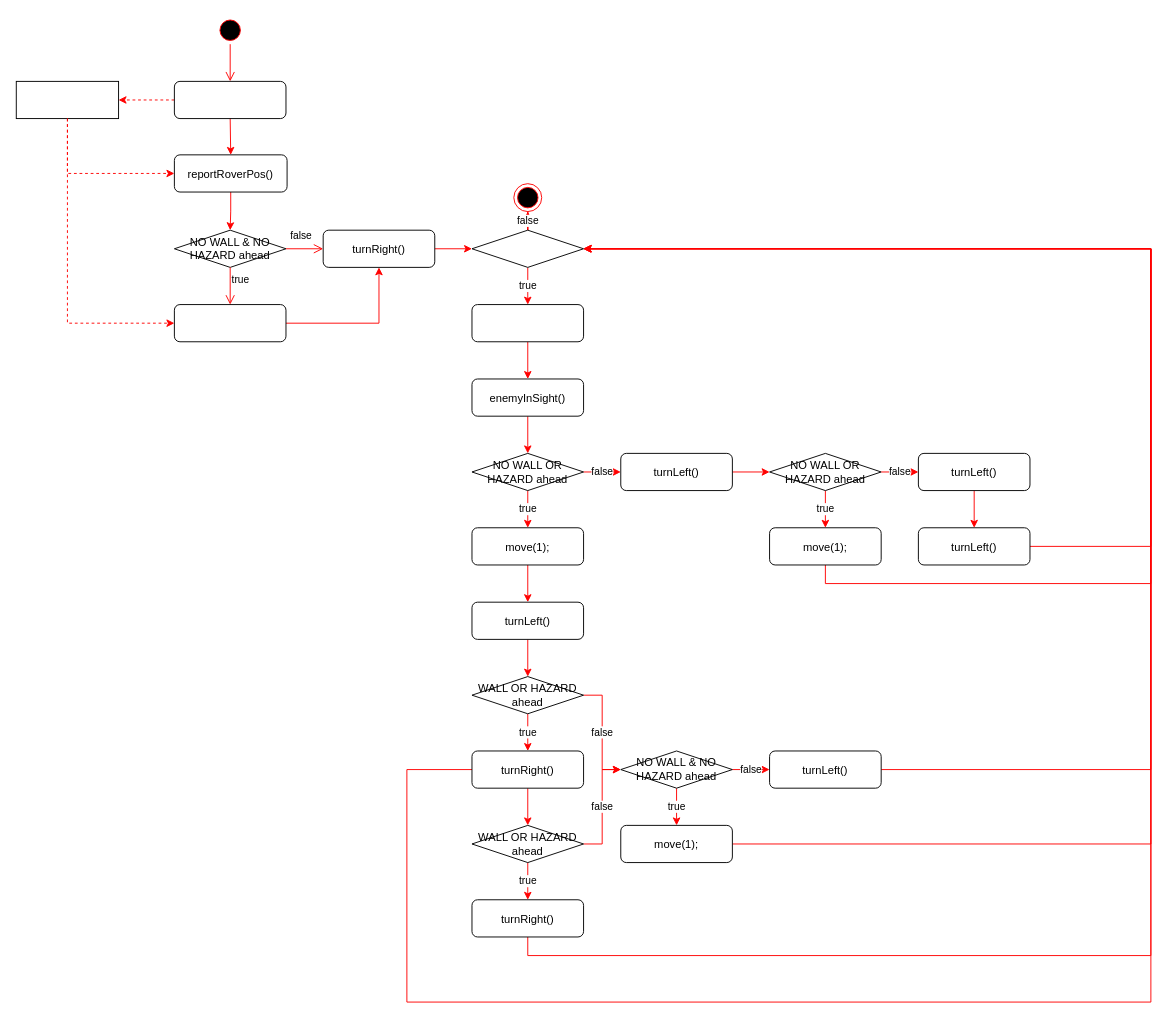
This 1175x1026 diagram has some shape labels left out. The centre of each missing label's shape, as x and y in pixels:
"map" belongs at [67,99].
"move(toNextObstacle)" belongs at [229,323].
"seeTreasure()" belongs at [527,323].
"spinMyHeadRightRound()" belongs at [229,99].
"while(true)" belongs at [527,248].
